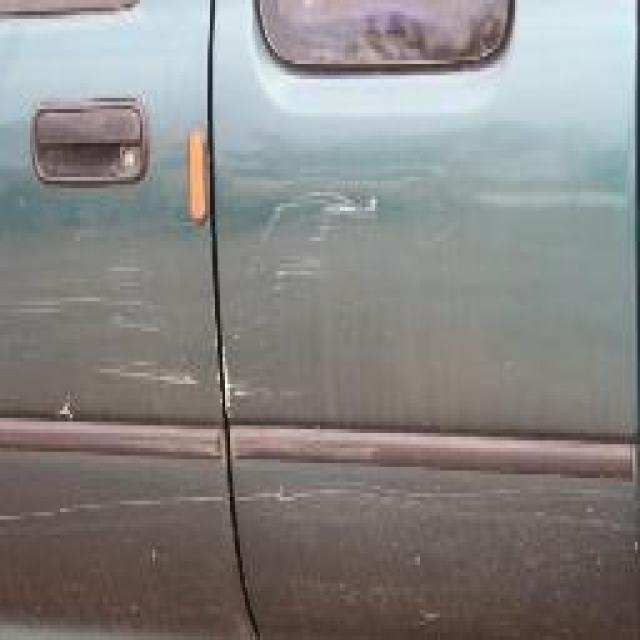Door: (5, 60, 640, 640)
